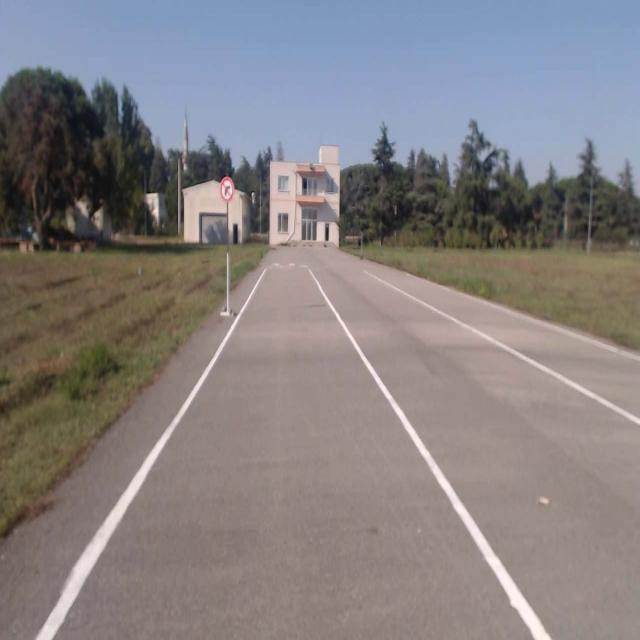sagadonulmez: (220, 177, 234, 202)
